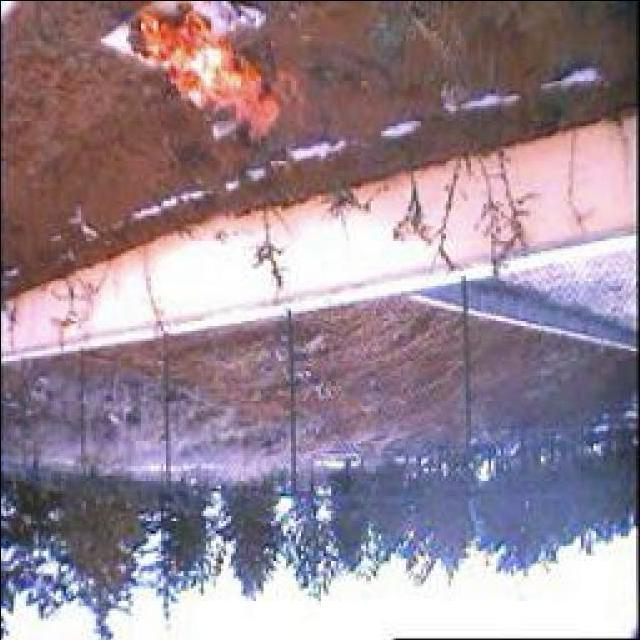Fire: (120, 0, 300, 143)
